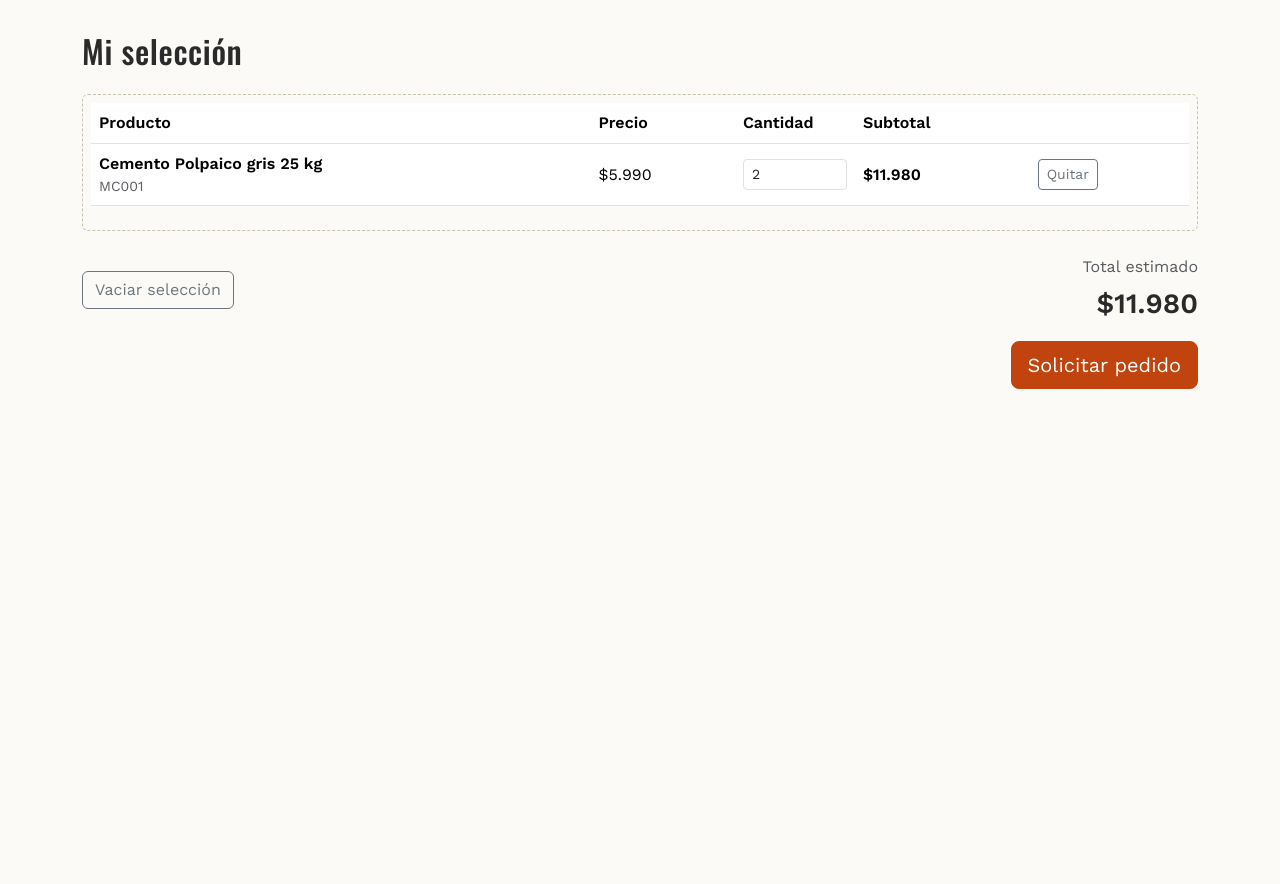
it: flujo de solicitud del carrito › permite avanzar del carrito, validar datos de despacho y confirmar una solicitud local
Click the button "Solicitar pedido" at point(1104, 365), box [1010,341,1198,389]
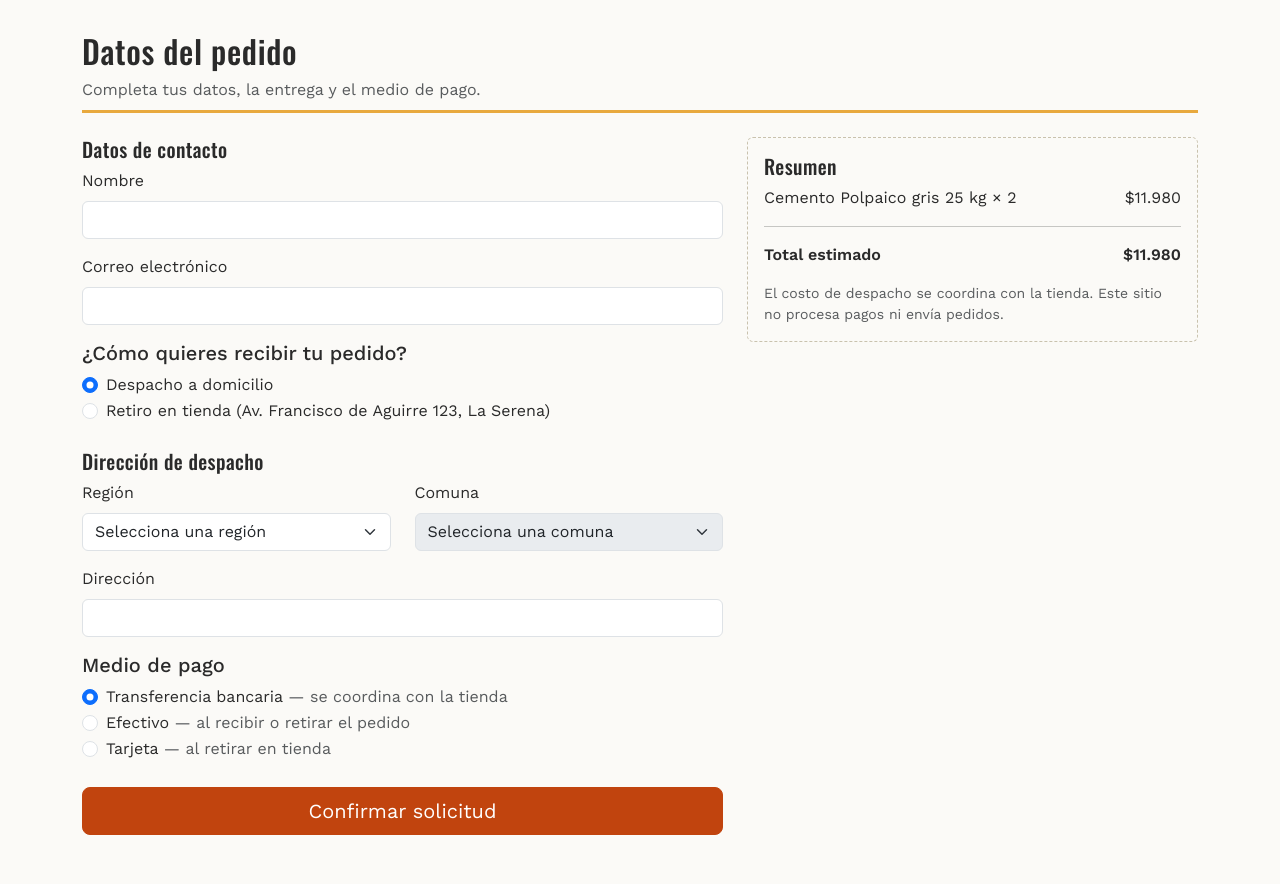
Result: the heading "Datos del pedido" is shown at [82,27,297,74]
Click the button "Confirmar solicitud" at point(402, 811), box [82,787,723,835]
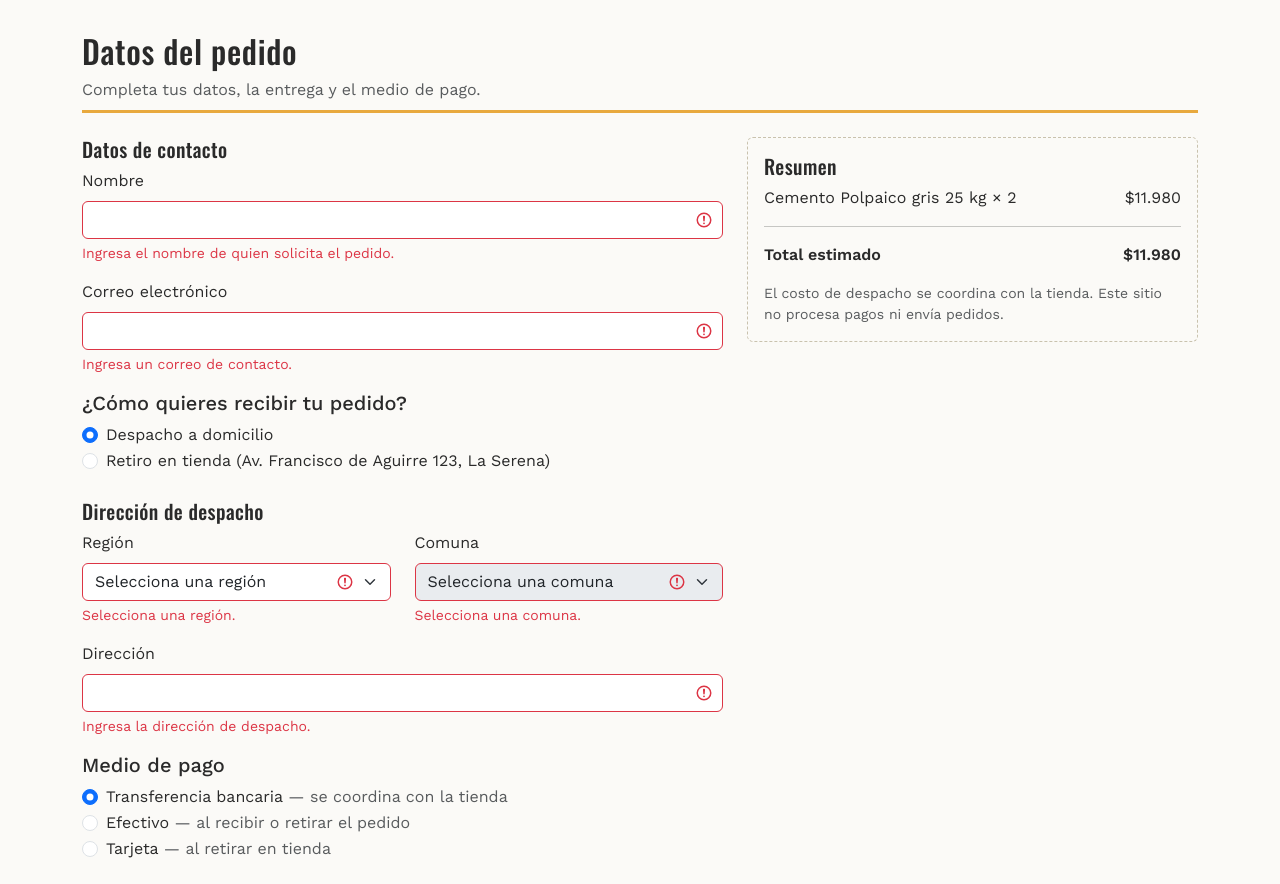
Result: the text "Ingresa el nombre de quien solicita el pedido." is shown at [82,245,394,261]
Result: the text "Selecciona una región." is shown at [82,607,236,623]
Type "Ana Pérez" into the field labelled "Nombre" at point(402, 220), box [82,201,723,239]
Type "ana@example.cl" into the field labelled "Correo electrónico" at point(402, 331), box [82,312,723,350]
Select "Coquimbo" in the dropdown labelled "Región" at point(236, 582), box [82,563,390,601]
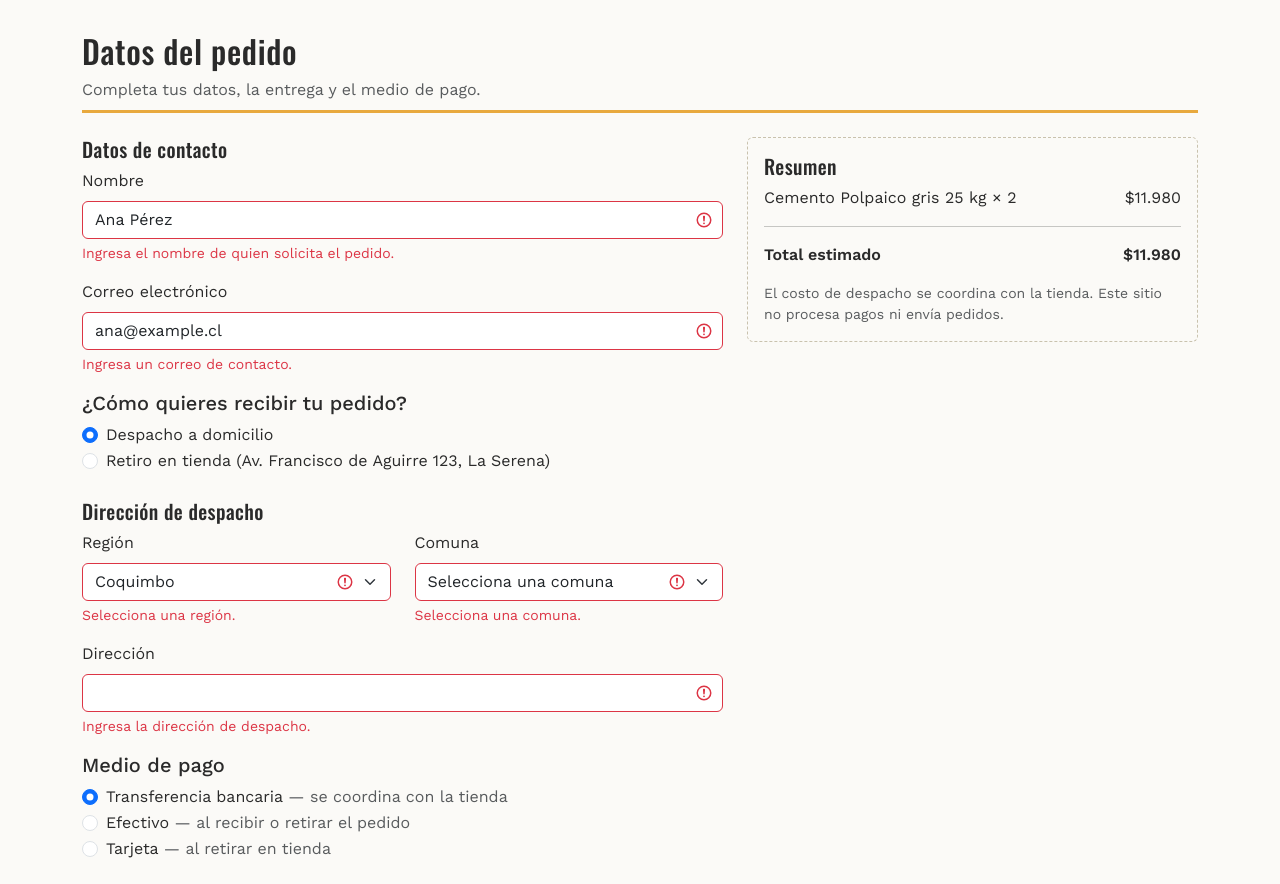
Select "La Serena" in the dropdown labelled "Comuna" at point(569, 582), box [414,563,723,601]
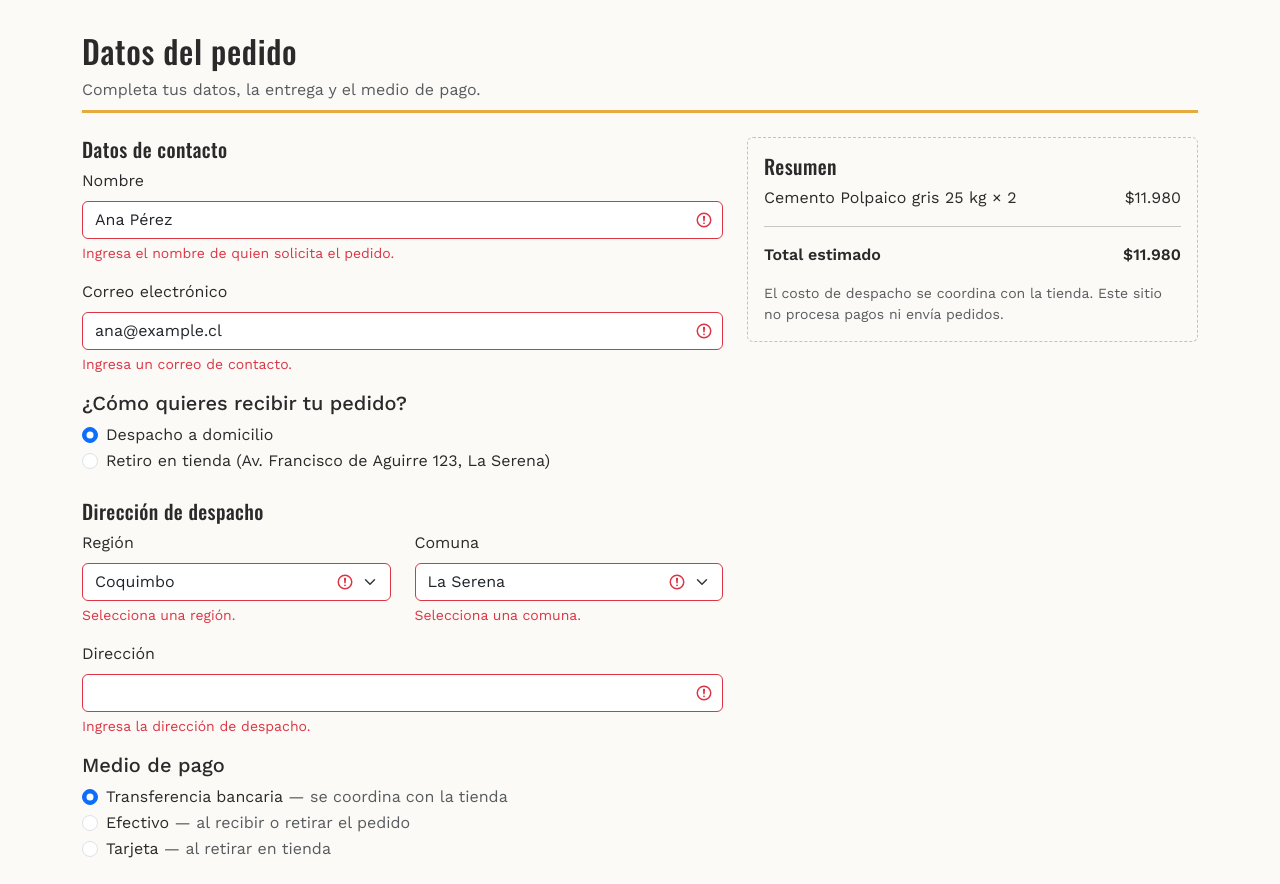
Type "Calle Uno 123" into the field labelled "Dirección" at point(402, 693), box [82,674,723,712]
(page scrolled)
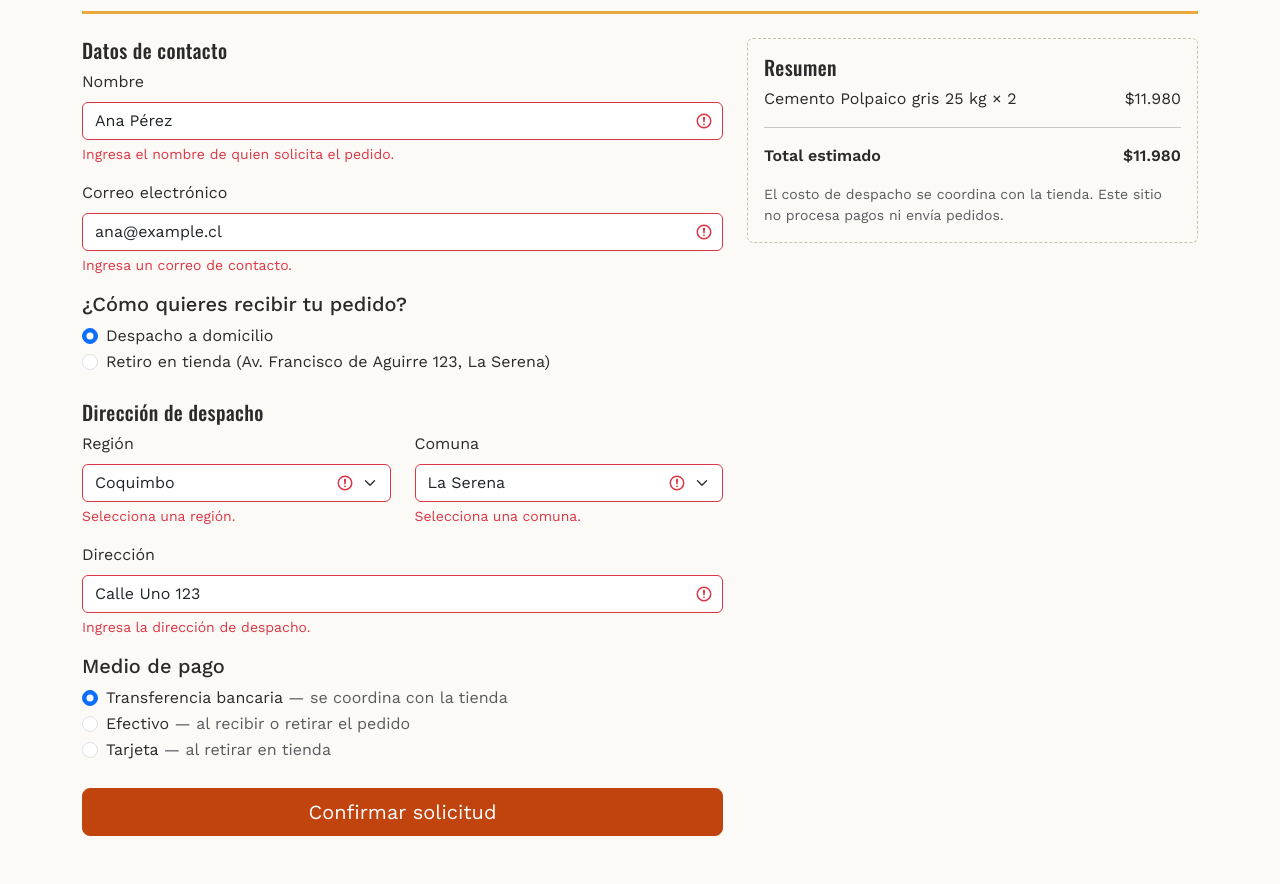
Click the button "Confirmar solicitud" at point(402, 812), box [82,788,723,836]
(page scrolled)
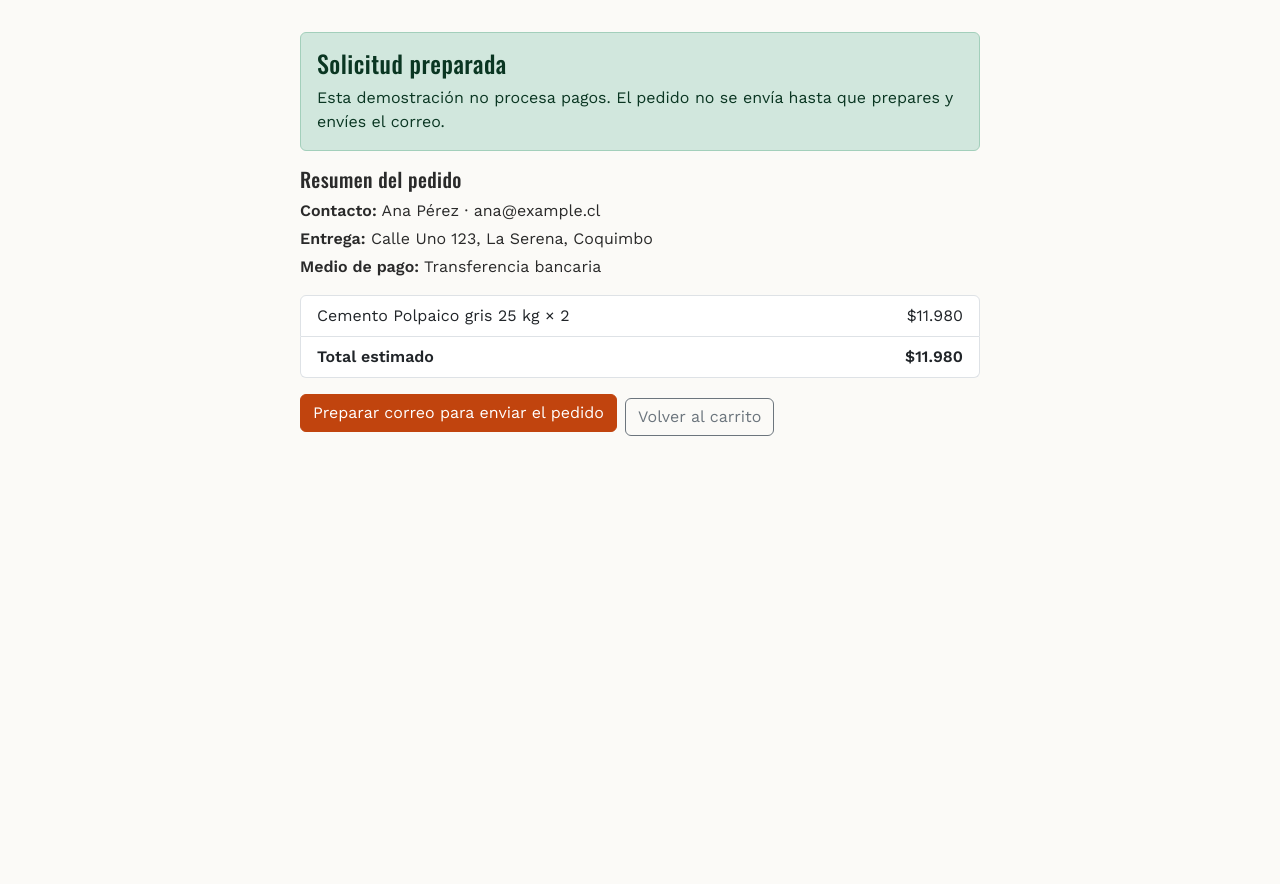
Result: the message shows "no procesa pagos" at [317,88,953,131]
Result: the text "Calle Uno 123, La Serena, Coquimbo" is shown at [371,229,653,248]
Result: the text "Transferencia bancaria" is shown at [424,257,601,276]
